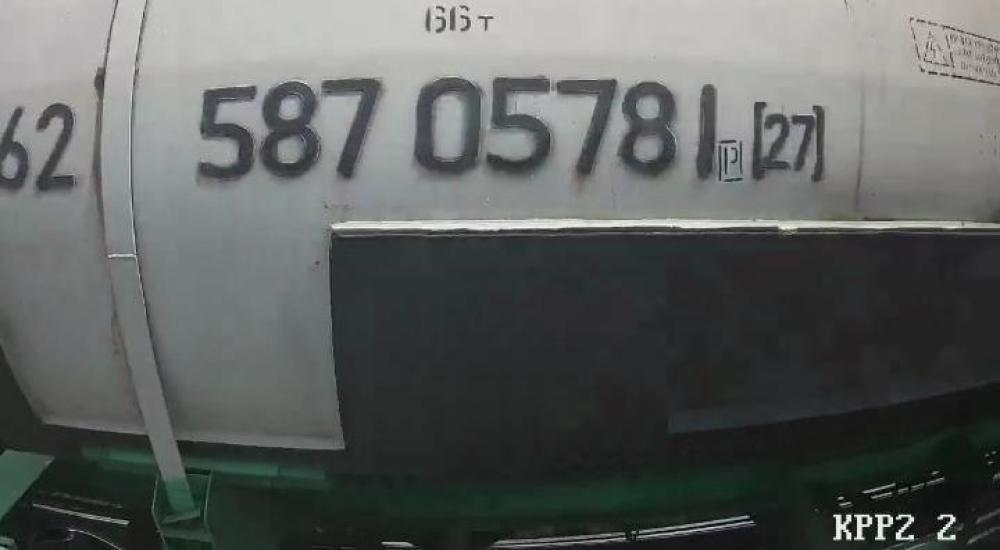Wagon-number: (196, 73, 722, 187)
